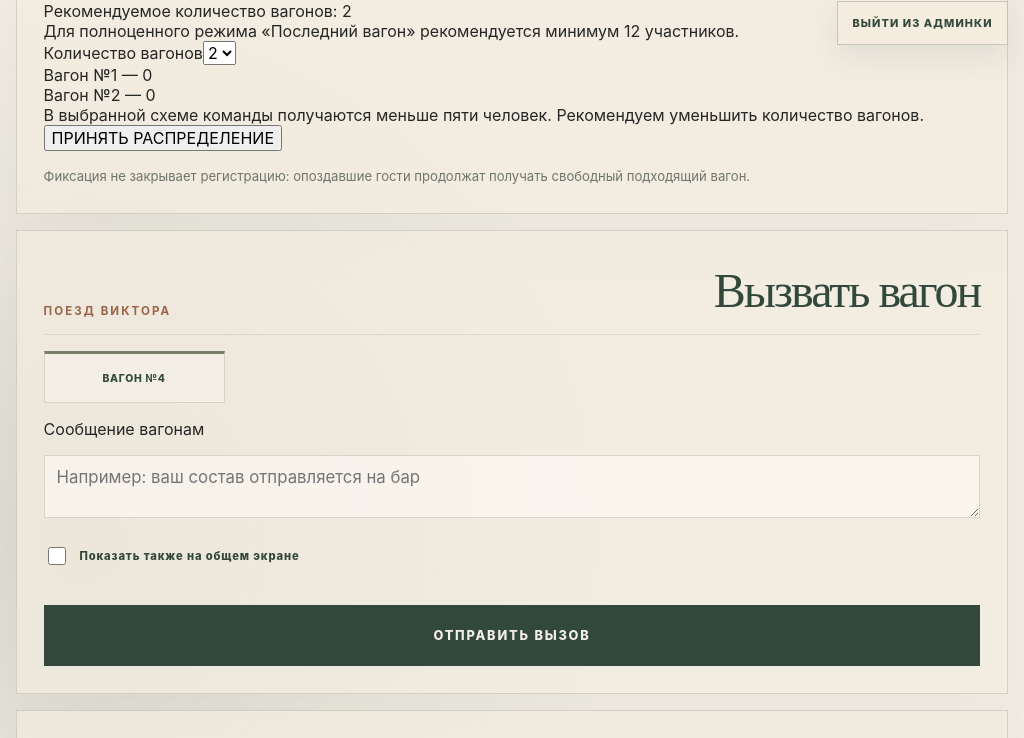
Test case: AdminPage › passes carriage call actions through to the owner shell
This screenshot has width=1024, height=738.
(page scrolled)
Click the checkbox named "Выбрать ВАГОН №4".
click(134, 377)  # box [44,351,225,403]
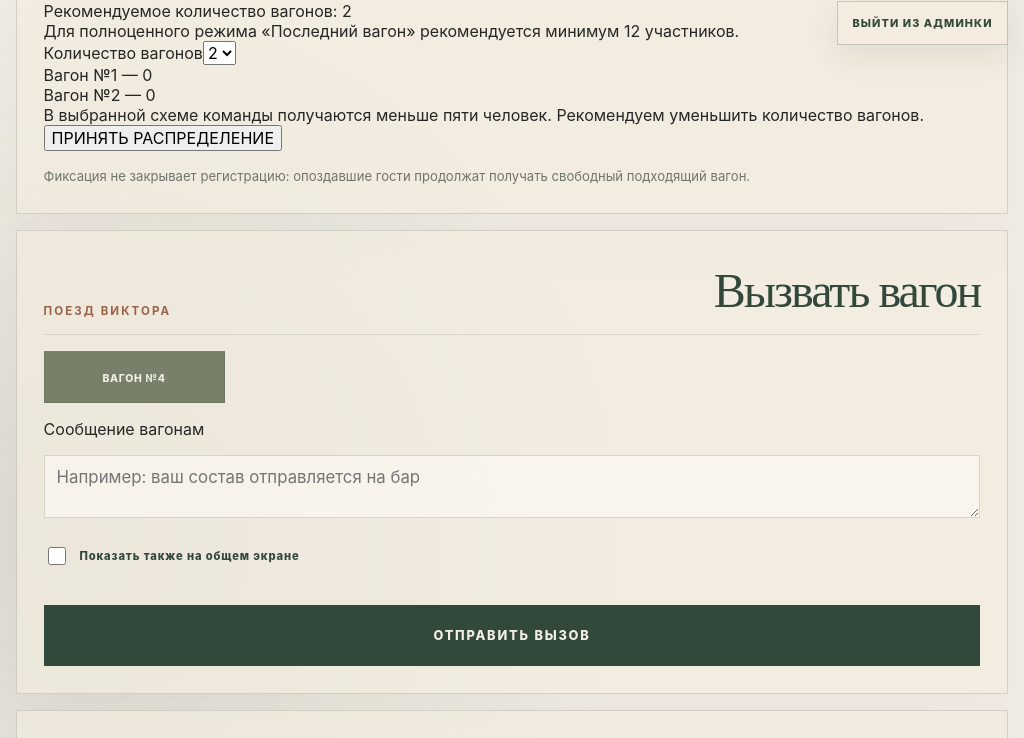
Type "ВАГОН 4 — НА MORTAL KOMBAT" into the text box labelled "Сообщение вагонам".
click(512, 487); type("ВАГОН 4 — НА MORTAL KOMBAT")  # box [44,455,980,518]
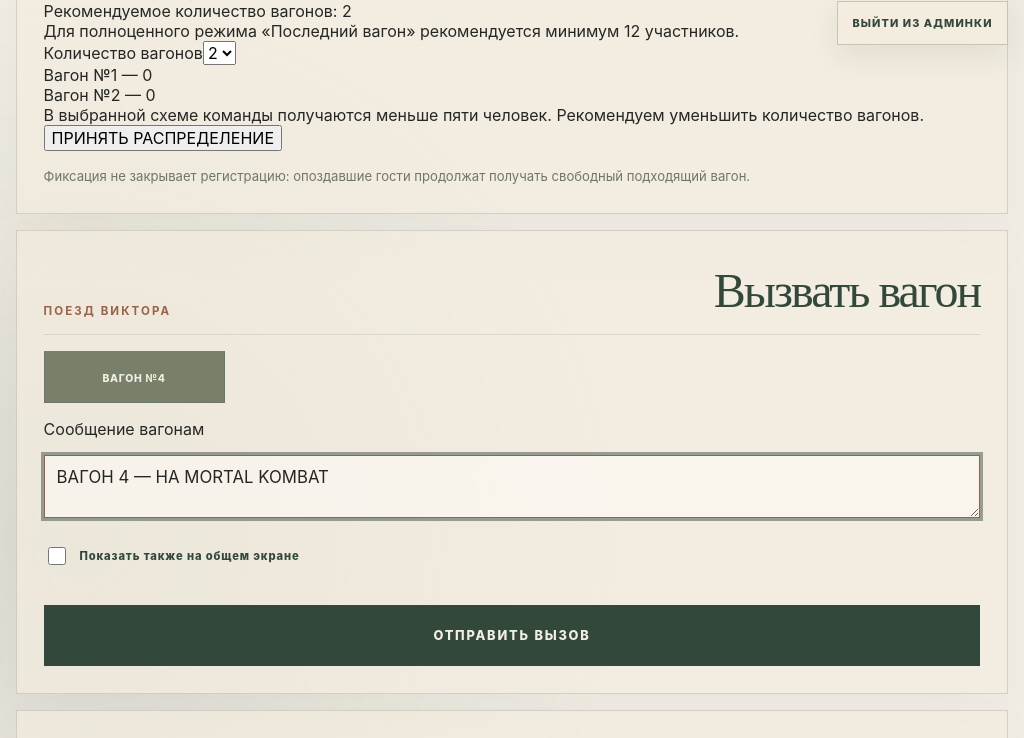
Click the button "ОТПРАВИТЬ ВЫЗОВ".
click(512, 636)  # box [44,605,980,666]
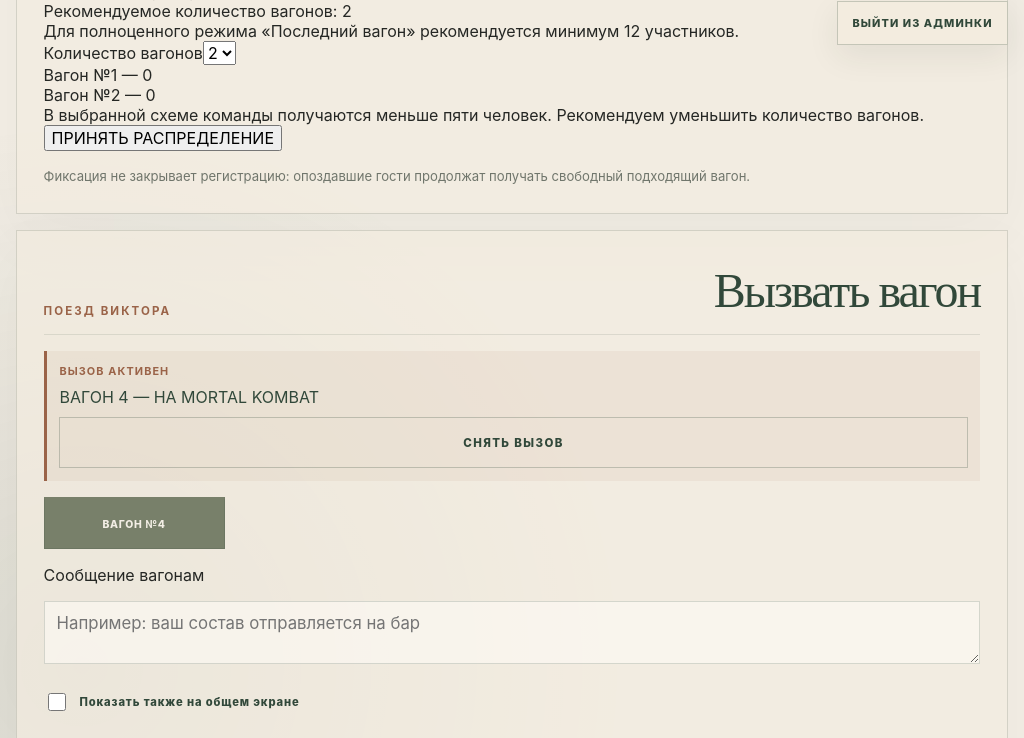
Check: the text "ВЫЗОВ АКТИВЕН" is shown, box [59,364,169,378]
